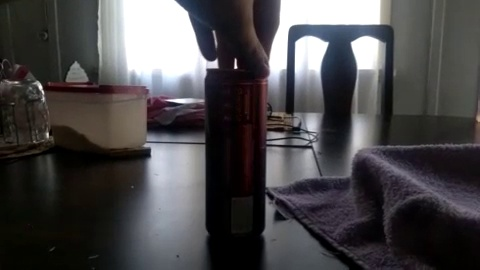duplo_malte: (186, 57, 281, 261)
